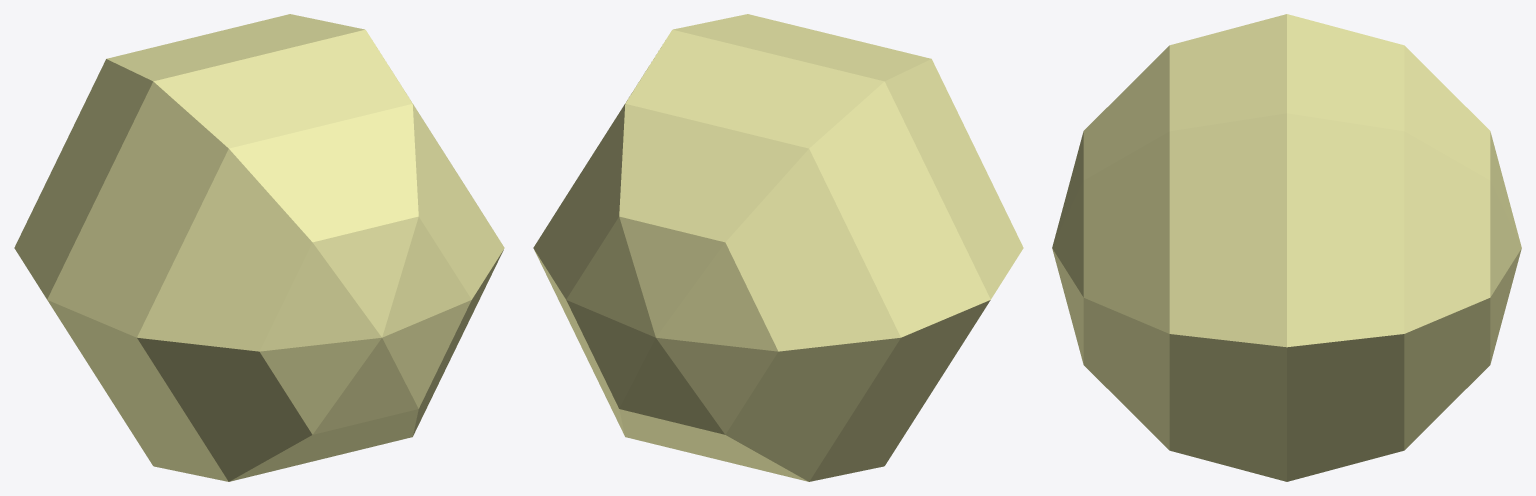
File: hand.fbx
3 renders of one model, left to right at view 1: azimuth 30°, elevation 25°; view 2: azimuth 150°, elevation 25°; view 3: azimuth 270°, elevation 25°, orthographic. The views are drawn at different scales.
Parts seen in each view (by area): view 1: pSphere3; view 2: pSphere3; view 3: pSphere3.
Boxes of the visible parts, <box> form: pSphere3: <box>14,14,504,481</box>; pSphere3: <box>533,14,1023,481</box>; pSphere3: <box>1052,14,1521,481</box>.
Size of the model in its own units: 2.85 by 2.47 by 2.85.
